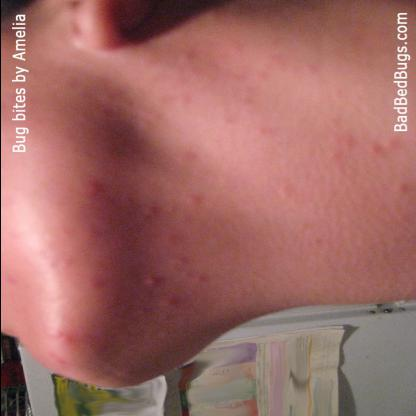Bed Bug: (225, 66, 266, 110), (44, 326, 80, 368), (152, 297, 184, 341), (170, 254, 212, 286), (326, 130, 358, 165), (94, 84, 130, 112), (367, 138, 401, 165), (81, 268, 111, 298), (170, 150, 201, 170), (269, 181, 297, 202), (391, 177, 413, 201), (140, 106, 164, 128), (134, 50, 158, 72), (45, 253, 74, 271), (82, 178, 108, 198), (57, 219, 78, 242), (172, 86, 192, 110), (58, 76, 86, 93), (177, 191, 203, 209), (138, 272, 164, 290), (270, 48, 287, 74), (204, 4, 226, 24), (302, 56, 320, 80), (224, 39, 246, 57), (254, 123, 278, 139), (172, 49, 194, 66), (140, 203, 162, 219), (160, 231, 184, 245), (4, 268, 17, 289)
